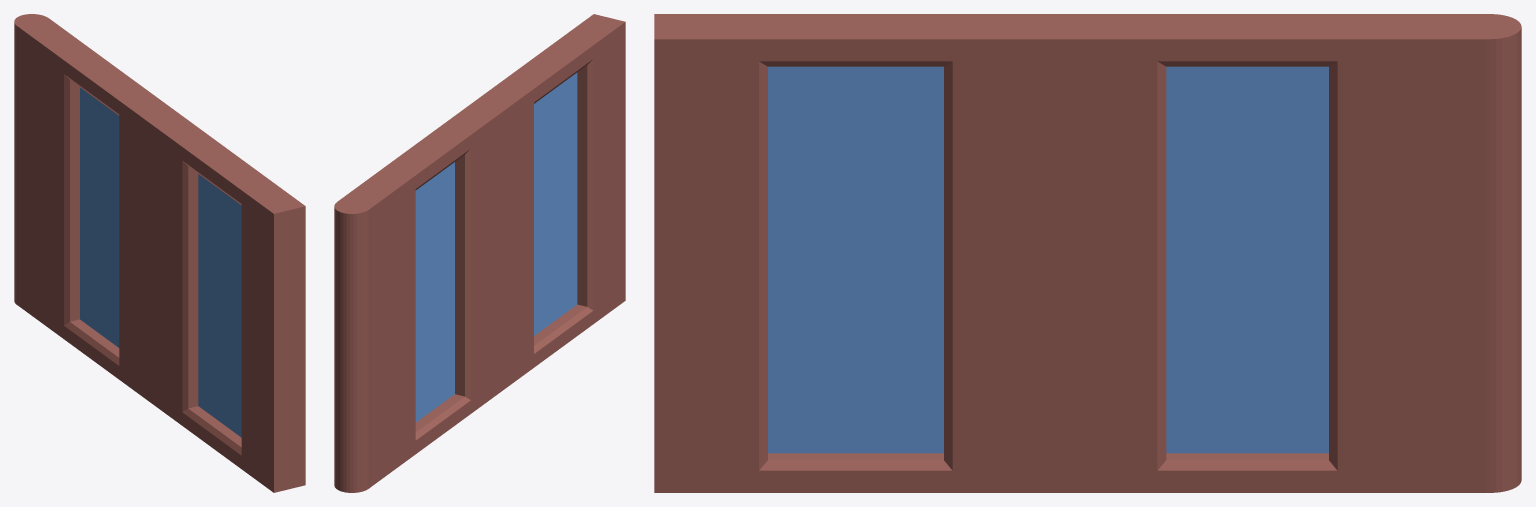
The model's file is Office Aussen Wand Fenster.fbx.
3 renders of one model, left to right at view 1: azimuth 30°, elevation 25°; view 2: azimuth 150°, elevation 25°; view 3: azimuth 270°, elevation 25°, orthographic. The views are drawn at different scales.
Parts seen in each view (by area): view 1: Cylinder, Cube; view 2: Cylinder, Cube; view 3: Cylinder, Cube.
Part boxes in pixels (left/top/right/bottom): Cylinder: left=14, top=14, right=305, bottom=492; Cube: left=80, top=87, right=241, bottom=437; Cylinder: left=334, top=14, right=625, bottom=492; Cube: left=415, top=72, right=577, bottom=422; Cylinder: left=654, top=14, right=1521, bottom=492; Cube: left=768, top=66, right=1328, bottom=453.
Size of the model in its own units: 6.63 by 55.44 by 96.02.
